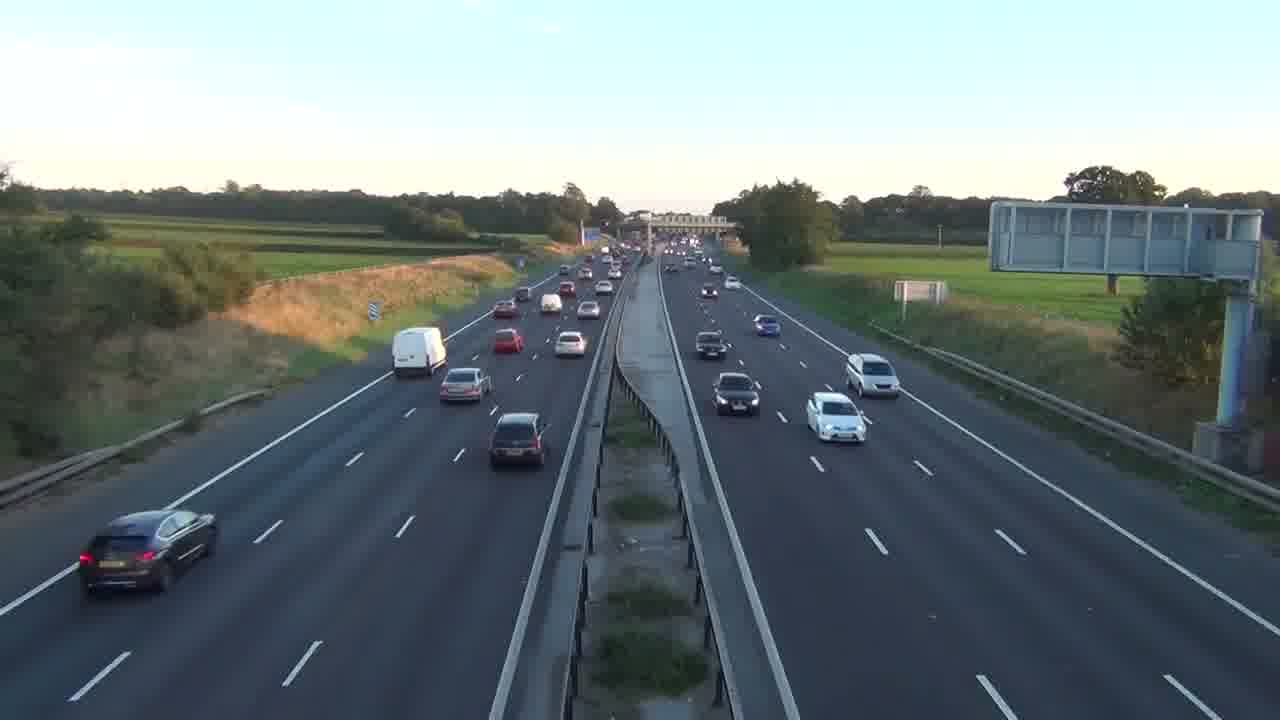car: (77, 507, 218, 597), (805, 391, 871, 445), (489, 411, 548, 468), (844, 352, 902, 400), (711, 371, 761, 417), (438, 366, 489, 404), (695, 330, 731, 360), (554, 330, 586, 358), (492, 328, 523, 355), (753, 314, 780, 336)
truck: (390, 325, 447, 379)
